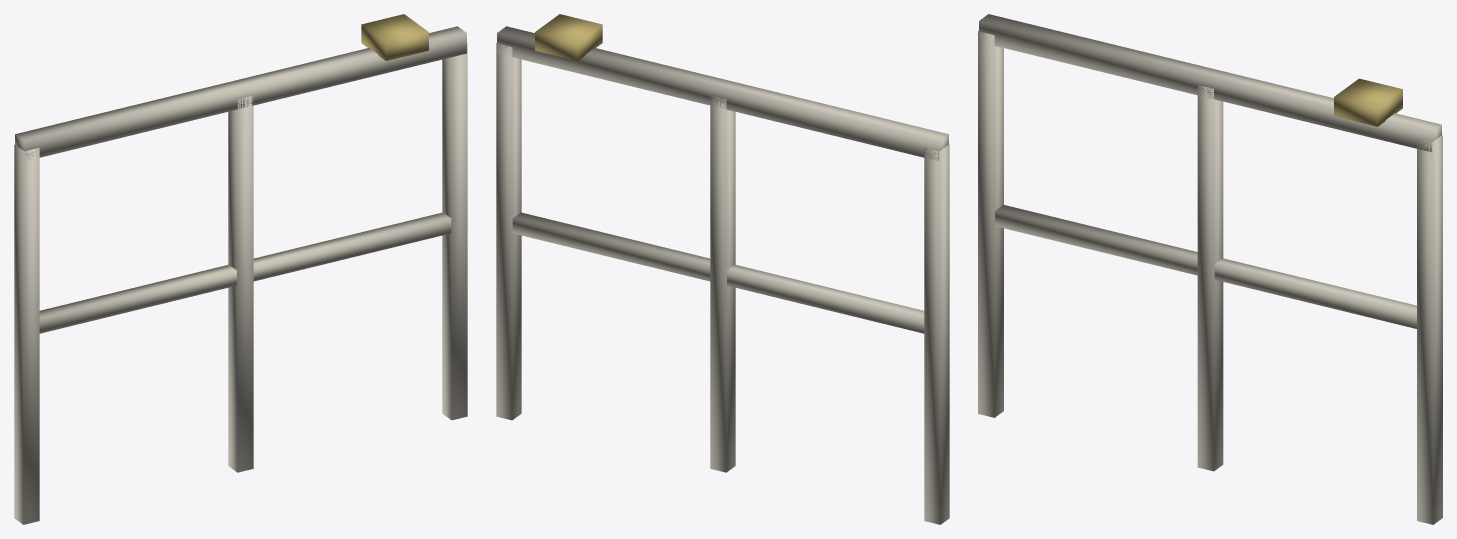
The model's file is civic_ladder_break_l120.glb.
The picture shows the model from 3 angles, left to right: view 1: azimuth 30°, elevation 25°; view 2: azimuth 150°, elevation 25°; view 3: azimuth 330°, elevation 25°; orthographic projection. The views are drawn at different scales.
Visible parts, largest first — view 1: world; view 2: world; view 3: world.
Part boxes in pixels (box(x1,y1,x2,y2)): world: box(14, 14, 467, 524); world: box(496, 14, 949, 524); world: box(978, 14, 1442, 524).
Bounding box in the file's own units: 1.25 × 1.08 × 0.12.
